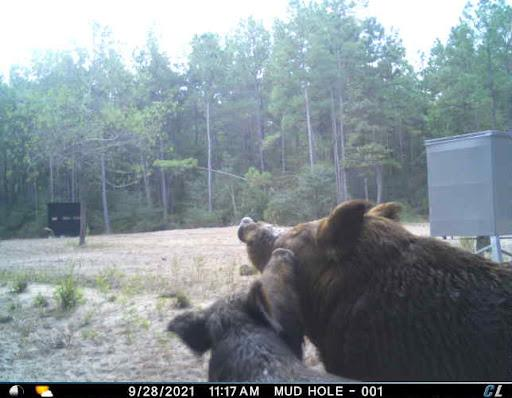Hog: (235, 196, 512, 383), (165, 241, 360, 381)
